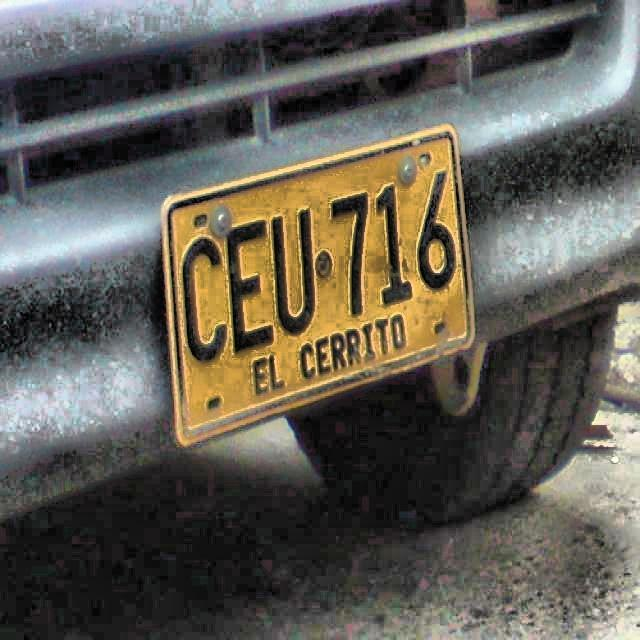plate: (168, 131, 471, 439)
